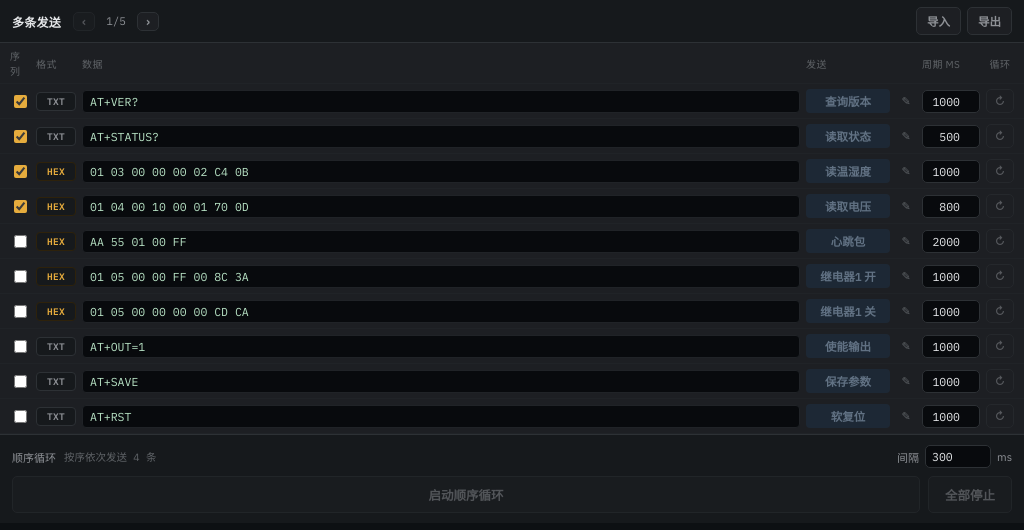
Test: 多条发送 › 按 Esc 放弃改名
Click the button named "重命名发送按钮: 查询版本" at (906, 101), box [896, 92, 916, 110]
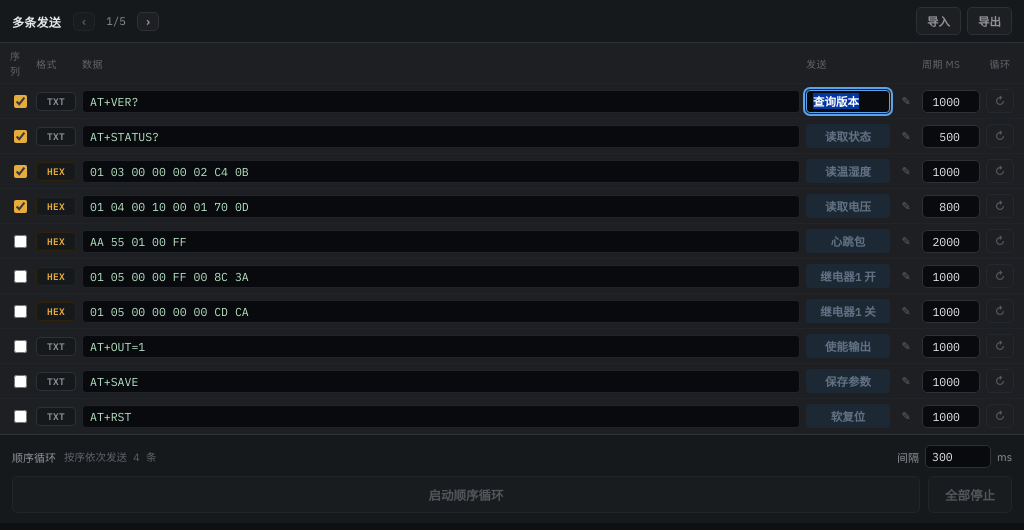
Type "别存" into the field named "重命名发送按钮" at (848, 101), box [806, 90, 890, 112]
Then press Escape
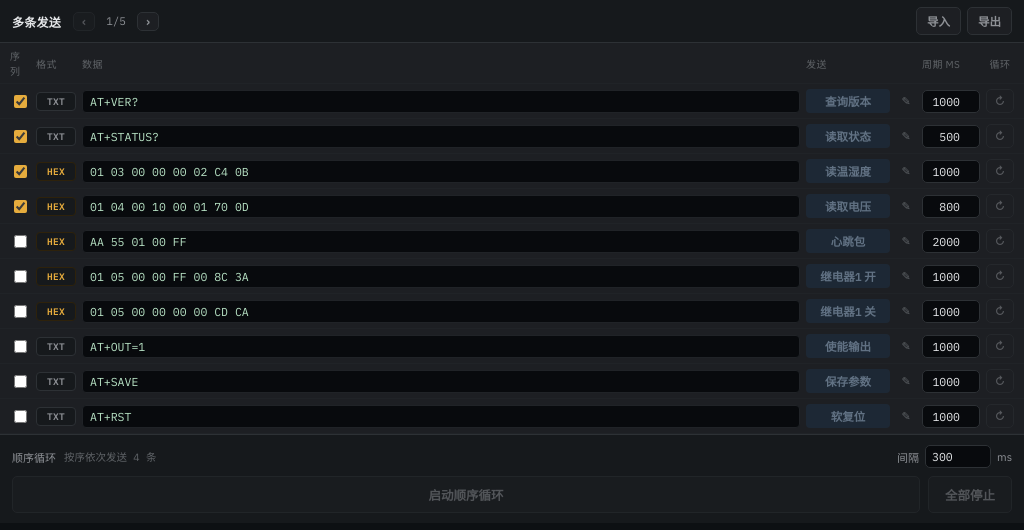
Check: the button "查询版本" is shown, box [806, 89, 890, 113]
